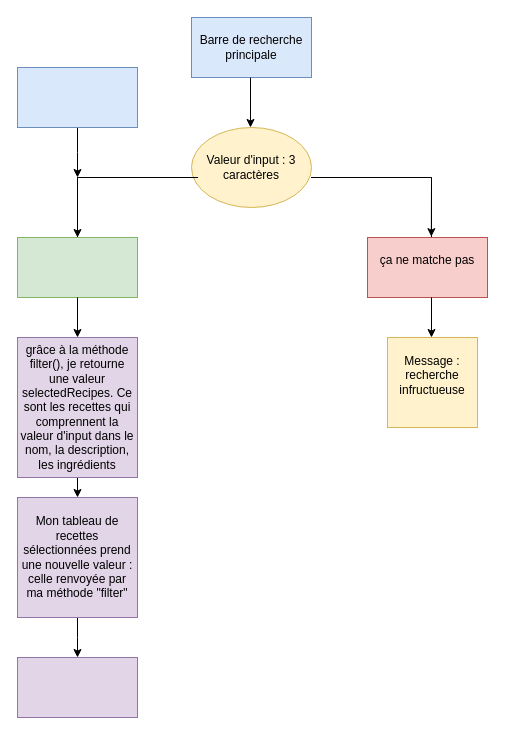
Some shapes in this 505 by 735 pixel diagram are drawn without their labels. Each missing label, with the centre of its shape:
"Affichage de mes recettes avec mon tableau filtré comme argument" goes at point (77, 687).
"Tableau de recettes sélectionnées : correspond par défaut à toutes les recettes" goes at point (77, 97).
"ça matche avec les recettes" goes at point (77, 267).
